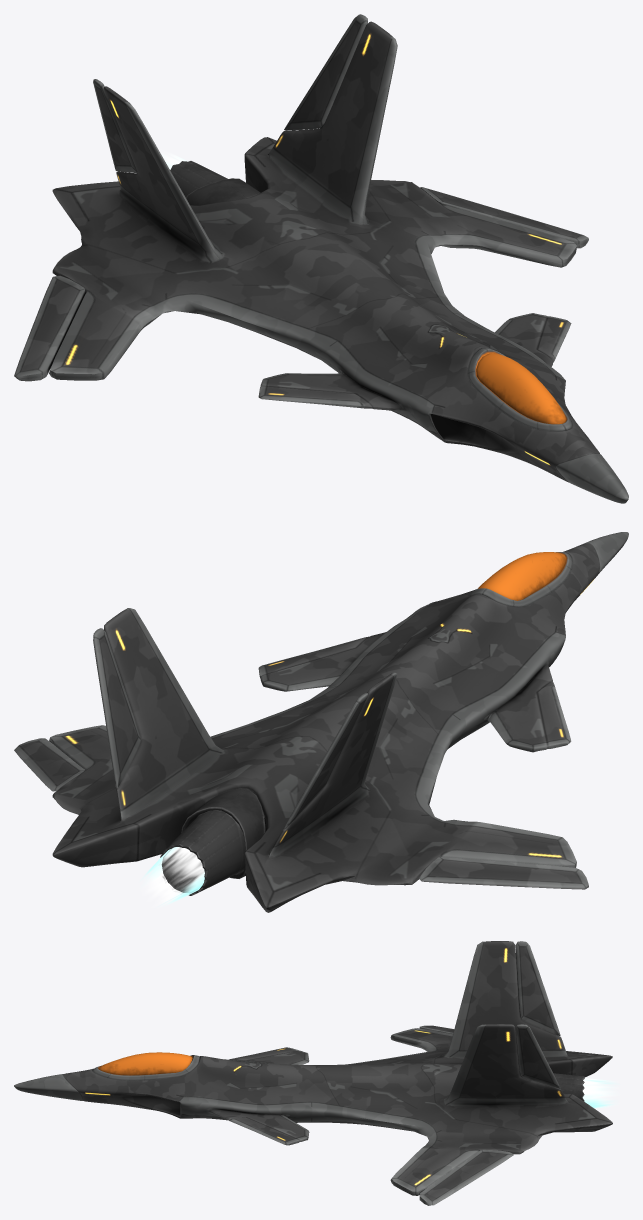
Rendered from concept_jet.glb.
3 views of the same model, one above another, from view 1: azimuth 30°, elevation 25°; view 2: azimuth 150°, elevation 25°; view 3: azimuth 270°, elevation 25° (orthographic). The views are drawn at different scales.
Parts seen in each view (by area): view 1: model; view 2: model; view 3: model.
Part boxes in pixels (bbox=[...]): model: bbox=[14, 14, 628, 503]; model: bbox=[14, 532, 628, 912]; model: bbox=[14, 941, 617, 1205].
Size of the model in its own units: 2.89 by 1.02 by 4.21.
1 material, 1 textured.
